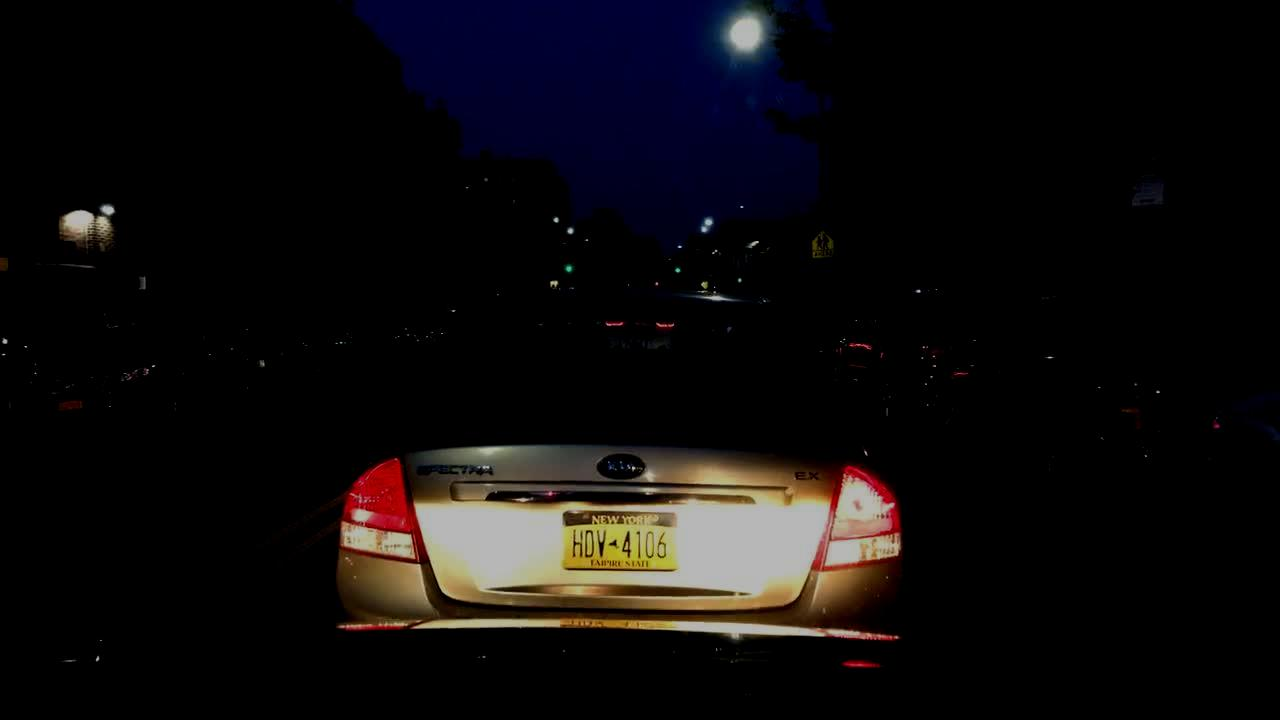kia: (597, 446, 652, 481)
